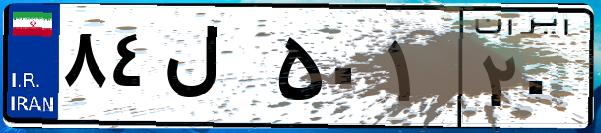0: (330, 28, 385, 110), (525, 38, 570, 115)
1: (385, 28, 445, 110)
2: (475, 38, 525, 113)
4: (110, 28, 158, 98)
5: (270, 28, 330, 110)
8: (57, 26, 110, 100)
ل: (158, 20, 270, 120)
